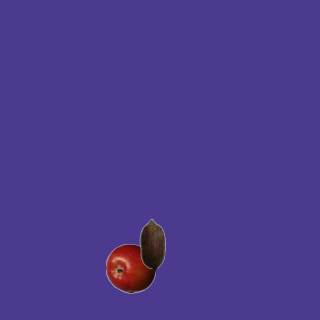Apple Braeburn: (105, 243, 155, 293)
Nut Pecan: (127, 218, 177, 268)
